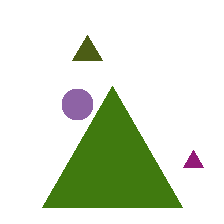circle: (62, 89, 92, 119)
triangle: (42, 86, 182, 207), (72, 35, 102, 60), (183, 150, 203, 167)
